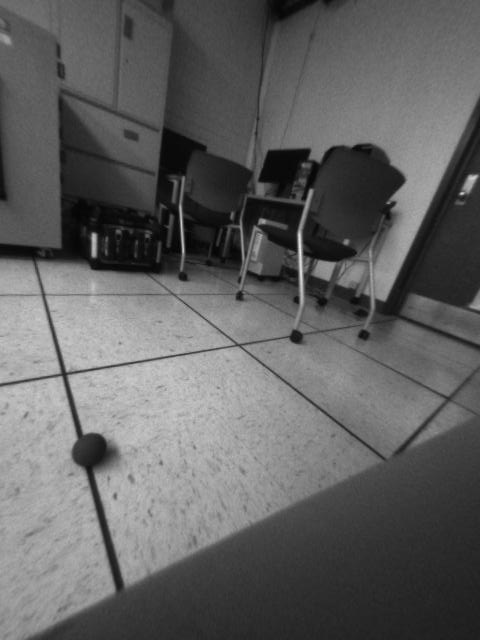dogtoy: (64, 425, 116, 477)
